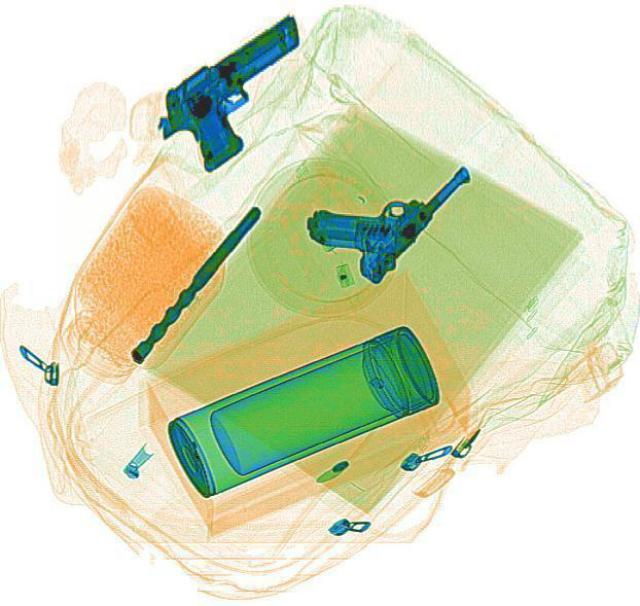Gun: (135, 7, 349, 178), (293, 118, 473, 285)
